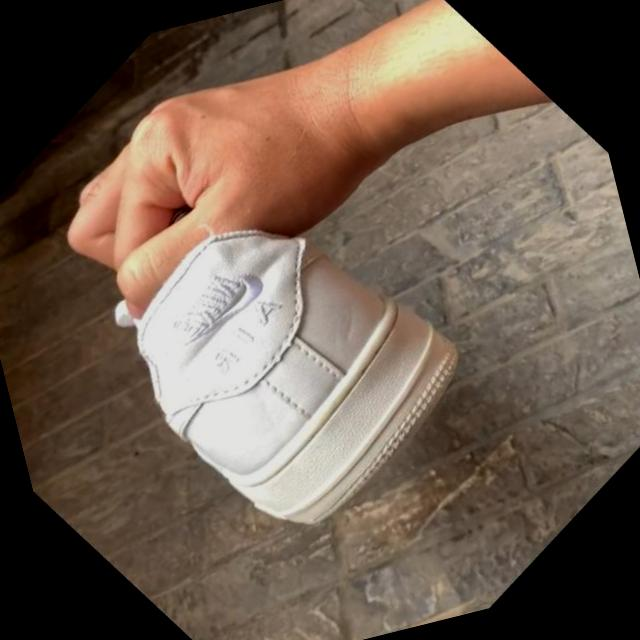nike_fake_airforce: (5, 78, 512, 602)
